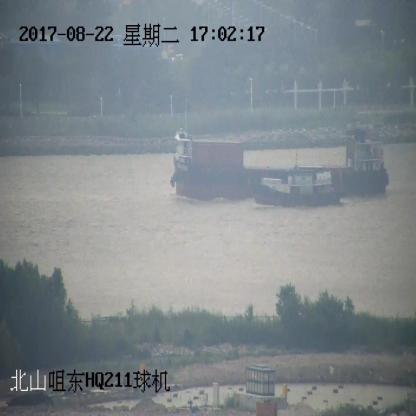Bulk Carrier: (172, 127, 388, 200)
